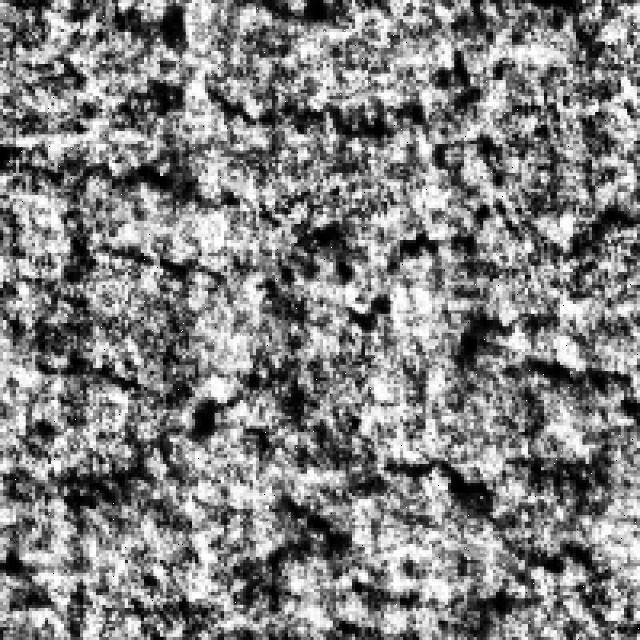Pitted_Surface: (346, 118, 640, 403), (45, 147, 285, 451), (276, 454, 614, 630), (125, 0, 509, 131)
